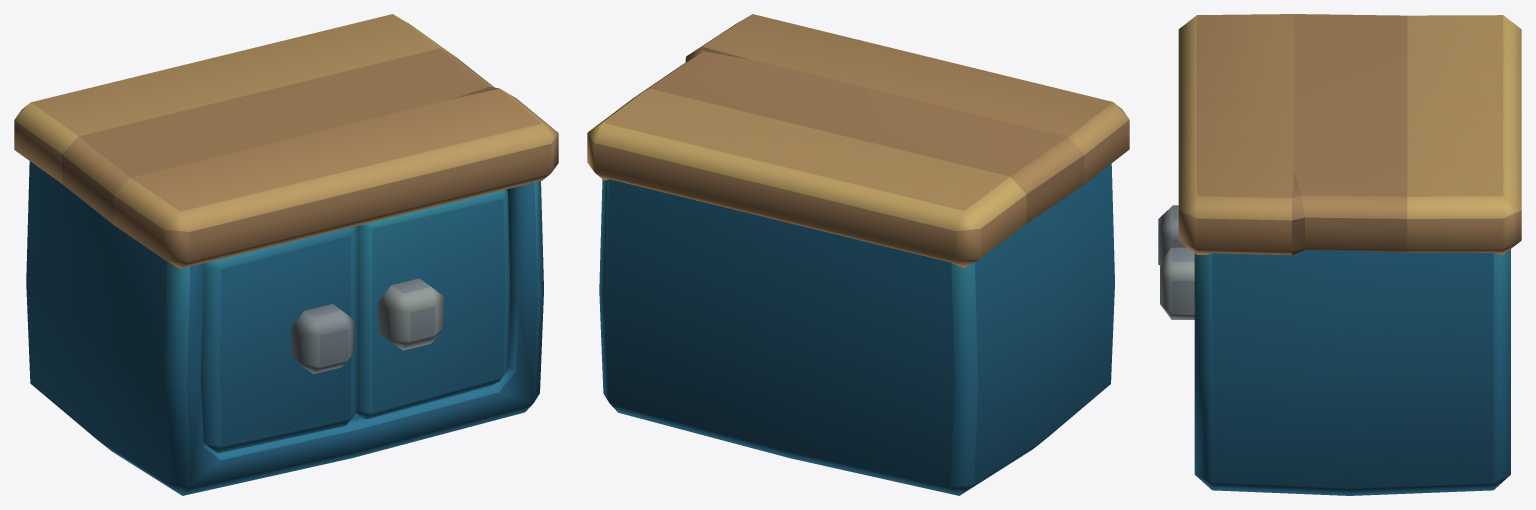
File: kitchen_counter2_LOD_setup.fbx
3 views of the same model, side by side, from view 1: azimuth 30°, elevation 25°; view 2: azimuth 150°, elevation 25°; view 3: azimuth 270°, elevation 25° (orthographic). The views are drawn at different scales.
Parts seen in each view (by area): view 1: kitchen_counter2_LOD0, kitchen_counter1_door2_LOD0, kitchen_counter2_door1_LOD0; view 2: kitchen_counter2_LOD0; view 3: kitchen_counter2_LOD0, kitchen_counter2_door1_LOD0, kitchen_counter1_door2_LOD0.
Part boxes in pixels (x1,y1,x2,y2): kitchen_counter2_LOD0: (14, 14, 558, 495); kitchen_counter1_door2_LOD0: (200, 226, 357, 453); kitchen_counter2_door1_LOD0: (356, 189, 510, 419); kitchen_counter2_LOD0: (587, 14, 1129, 495); kitchen_counter2_LOD0: (1178, 14, 1521, 495); kitchen_counter2_door1_LOD0: (1160, 247, 1194, 319); kitchen_counter1_door2_LOD0: (1158, 205, 1186, 265).
Size of what is drawn, in the model's own units: 108 by 76.82 by 82.45.
